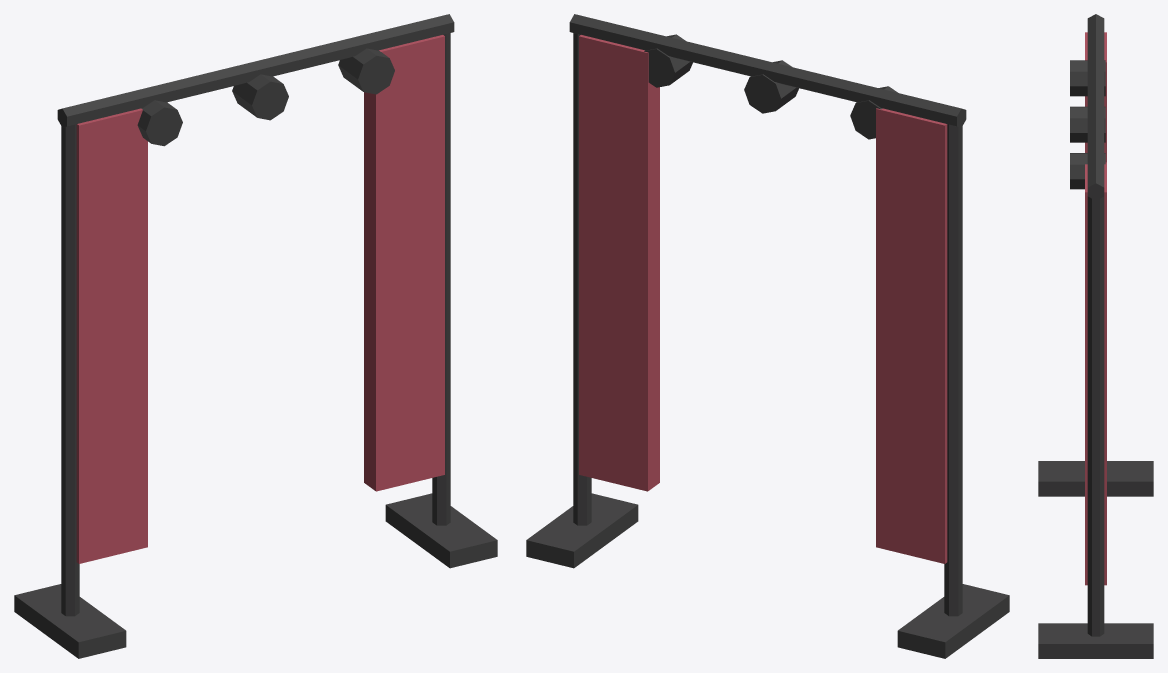
The picture shows the model from 3 angles, left to right: view 1: azimuth 30°, elevation 25°; view 2: azimuth 150°, elevation 25°; view 3: azimuth 270°, elevation 25°; orthographic projection. The views are drawn at different scales.
Parts seen in each view (by area): view 1: Stage drape.002, Stage drape, Stage drape.001, Stage drape.003, Curtain frame, Curtain beam, Stage frame foot.001, Stage frame foot, Curtain frame.001, Stage lamp.002, Stage lamp.001, Stage lamp; view 2: Stage drape.002, Stage drape, Stage drape.003, Stage drape.001, Curtain frame, Curtain beam, Stage frame foot.001, Stage frame foot, Curtain frame.001, Stage lamp.001, Stage lamp.002, Stage lamp; view 3: Curtain frame.001, Stage frame foot.001, Stage frame foot, Curtain beam, Stage drape.003, Stage lamp, Stage lamp.001, Stage lamp.002, Stage drape.001.
Boxes of the visible parts, x1,y1,x2,y2 form: Stage drape.002: (364, 42, 413, 491); Stage drape: (76, 115, 116, 563); Stage drape.001: (111, 108, 147, 556); Stage drape.003: (408, 35, 444, 483); Curtain frame: (61, 124, 79, 616); Curtain beam: (57, 14, 454, 127); Stage frame foot.001: (385, 493, 497, 568); Stage frame foot: (14, 584, 126, 658); Curtain frame.001: (432, 33, 450, 525); Stage lamp.002: (338, 48, 394, 94); Stage lamp.001: (232, 74, 288, 120); Stage lamp: (137, 100, 182, 146); Stage drape.002: (610, 42, 659, 491); Stage drape: (907, 115, 947, 563); Stage drape.003: (579, 35, 615, 483); Stage drape.001: (876, 108, 914, 554); Curtain frame: (944, 124, 962, 616); Curtain beam: (569, 14, 966, 127); Stage frame foot.001: (526, 493, 638, 568); Stage frame foot: (897, 584, 1009, 658); Curtain frame.001: (573, 33, 591, 525); Stage lamp.001: (744, 60, 798, 113); Stage lamp.002: (644, 34, 692, 87); Stage lamp: (850, 86, 897, 139); Curtain frame.001: (1087, 196, 1104, 636); Stage frame foot.001: (1038, 623, 1153, 658); Stage frame foot: (1038, 461, 1153, 496); Curtain beam: (1087, 14, 1104, 200); Stage drape.003: (1085, 178, 1106, 585); Stage lamp: (1070, 60, 1105, 96); Stage lamp.001: (1070, 106, 1105, 142); Stage lamp.002: (1070, 153, 1105, 189); Stage drape.001: (1085, 46, 1106, 162).
Size of the model in its own units: 158 by 189 by 42.
